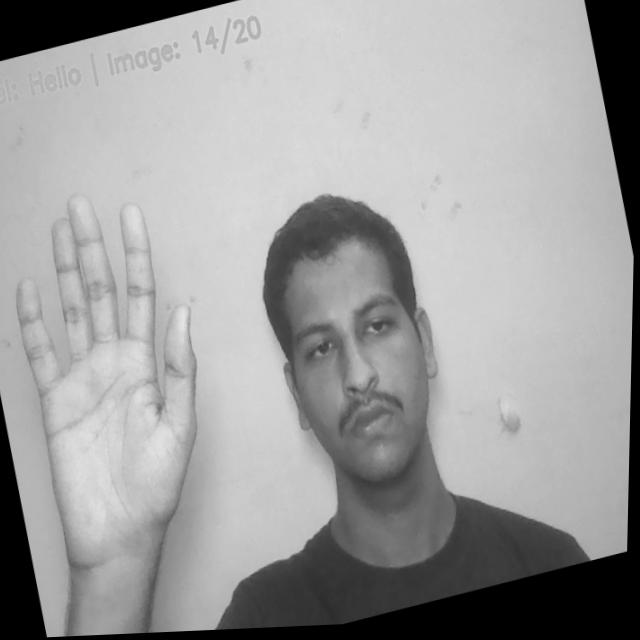Hello: (0, 165, 235, 563)
